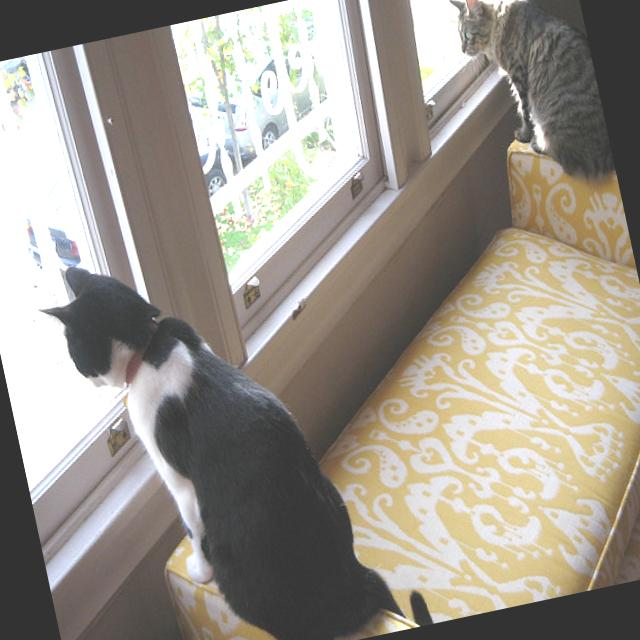Vehicle: (180, 41, 344, 198), (13, 170, 89, 310), (0, 56, 31, 116)
